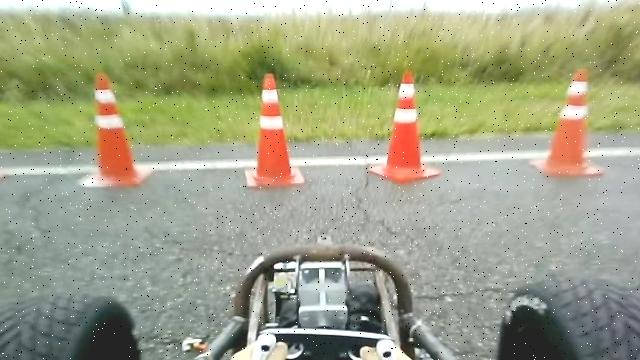red cone: (528, 67, 605, 177), (367, 69, 441, 183), (78, 72, 148, 187), (244, 72, 305, 187)
